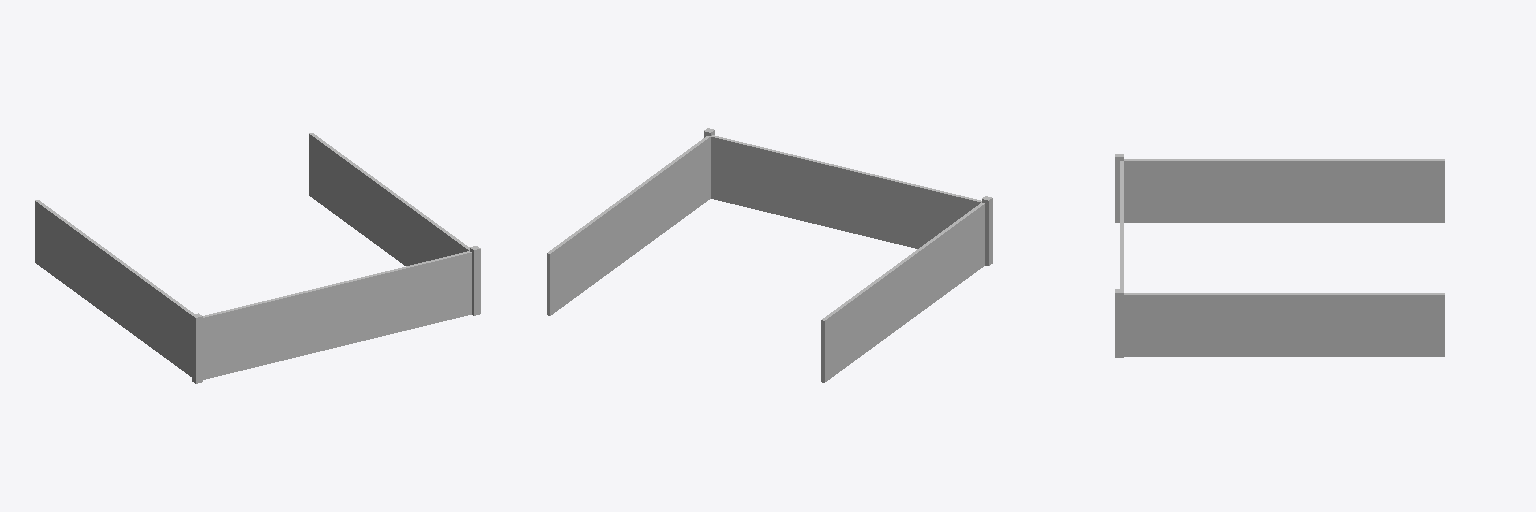
The model's file is fence_large.obj.
3 renders of one model, left to right at view 1: azimuth 30°, elevation 25°; view 2: azimuth 150°, elevation 25°; view 3: azimuth 270°, elevation 25°, orthographic.
Visible parts, largest first — view 1: fence_large; view 2: fence_large; view 3: fence_large.
Part boxes in pixels (x1,y1,x2,y2): fence_large: (35,133,480,383); fence_large: (547,128,992,382); fence_large: (1115,154,1444,357).
Bounding box in the file's own units: 1.2 × 0.265 × 1.2.